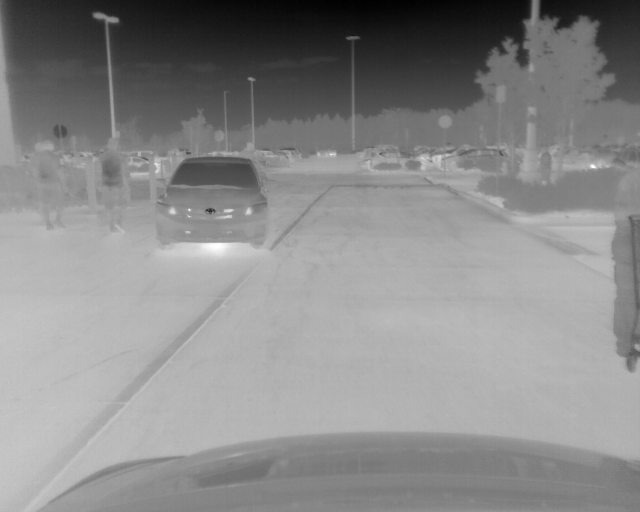car: (158, 157, 266, 250), (442, 148, 509, 169), (371, 151, 434, 169), (318, 148, 337, 156)
people: (611, 170, 640, 313), (34, 142, 69, 233), (97, 140, 129, 234), (538, 146, 555, 186), (506, 151, 521, 179)
